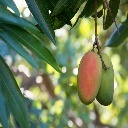mango: (77, 51, 102, 105), (95, 52, 115, 106)
